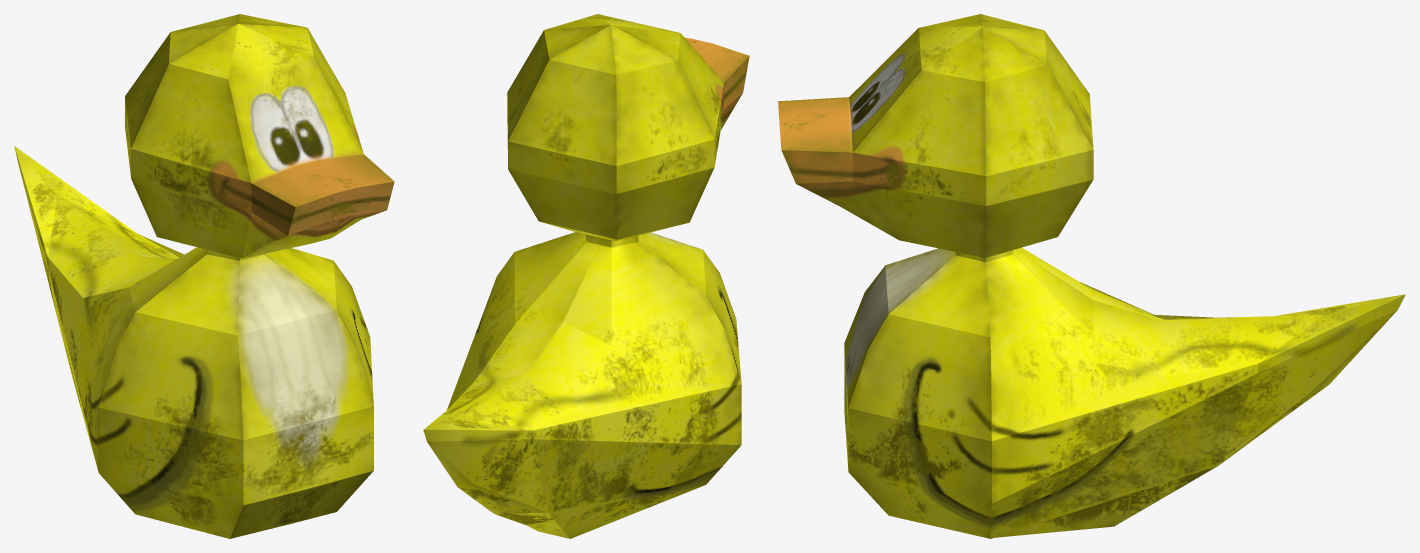
File: Duck.fbx
3 renders of one model, left to right at view 1: azimuth 30°, elevation 25°; view 2: azimuth 150°, elevation 25°; view 3: azimuth 270°, elevation 25°, orthographic. The views are drawn at different scales.
Parts seen in each view (by area): view 1: pSphere2, pSphere1; view 2: pSphere2, pSphere1; view 3: pSphere2, pSphere1.
Boxes of the visible parts, x1,y1,x2,y2 form: pSphere2: (14,146,373,538); pSphere1: (125,14,394,258); pSphere2: (423,232,741,538); pSphere1: (507,14,749,240); pSphere2: (844,247,1405,538); pSphere1: (778,14,1093,257).
Size of the model in its own units: 1.15 by 1.97 by 2.27.
Materials: 1 (1 with a texture image).
